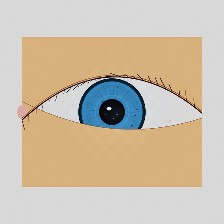pinguecula_lesion: (153, 88, 198, 124)
